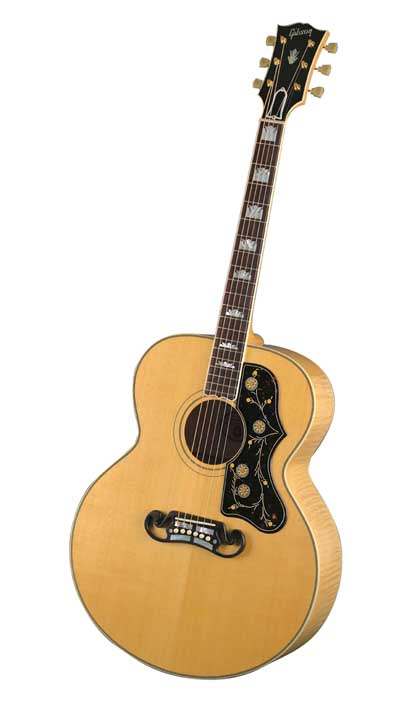guitar: (67, 24, 349, 680)
